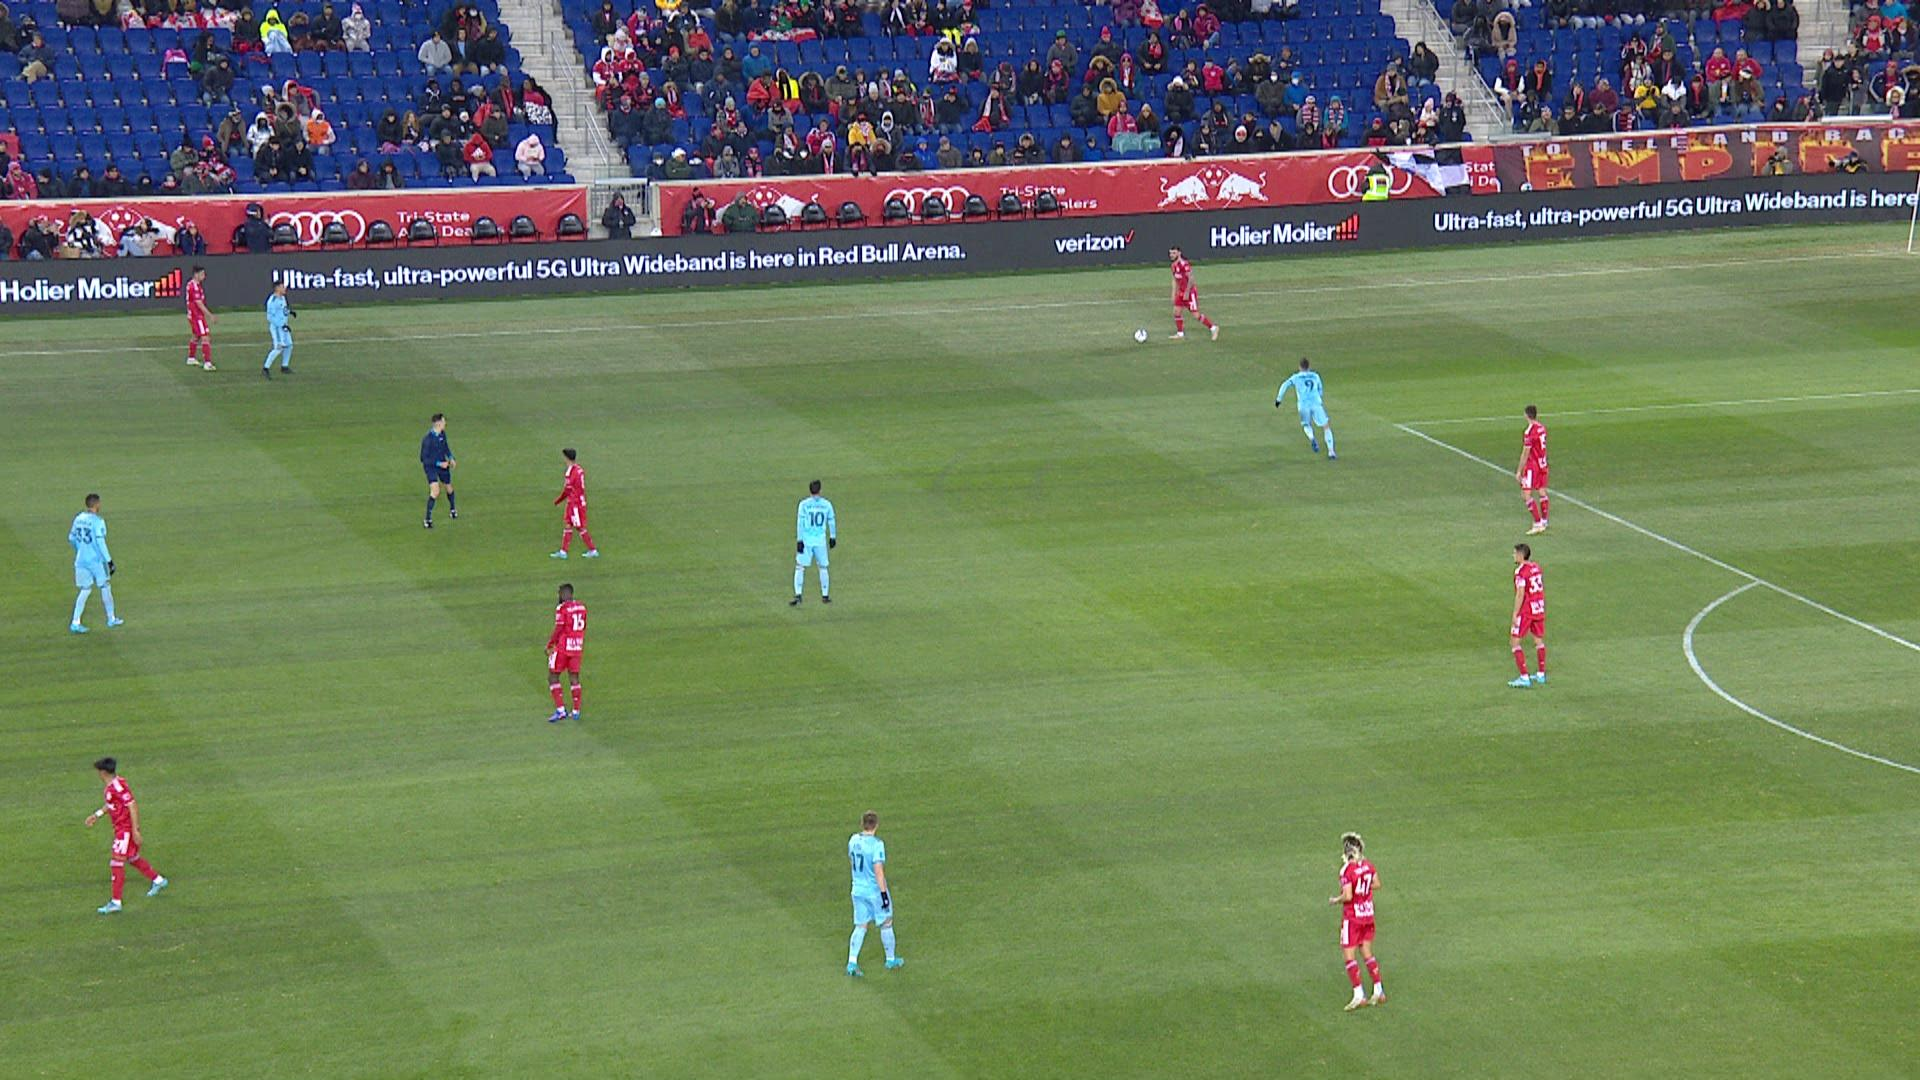football: (1134, 328, 1148, 343)
